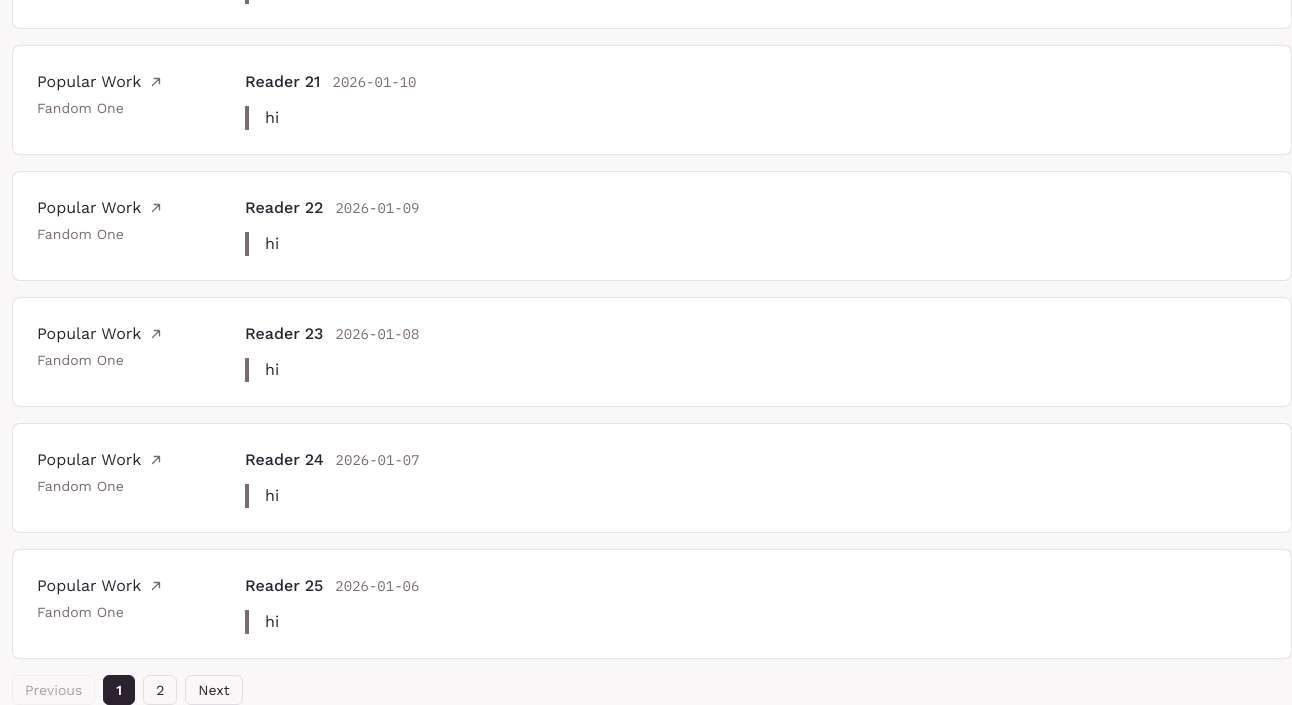
Test: BookmarkFeed pagination › disables the Next button on the last page
The width and height of the screenshot is (1292, 705).
(page scrolled)
Click the button "2": (160, 690) [143, 675, 177, 704]
(page scrolled)
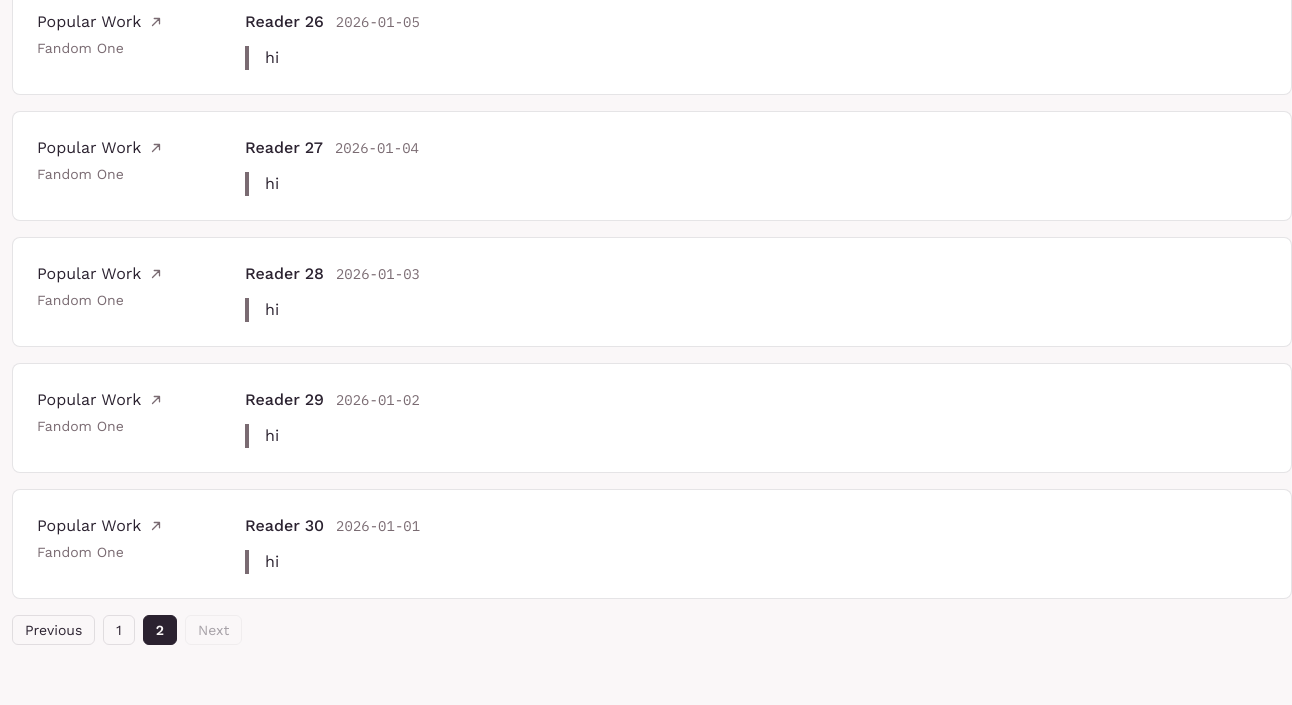
Expected: the button "Next" is disabled, [185, 615, 242, 645]
Expected: the button "Previous" is enabled, [12, 615, 95, 645]
